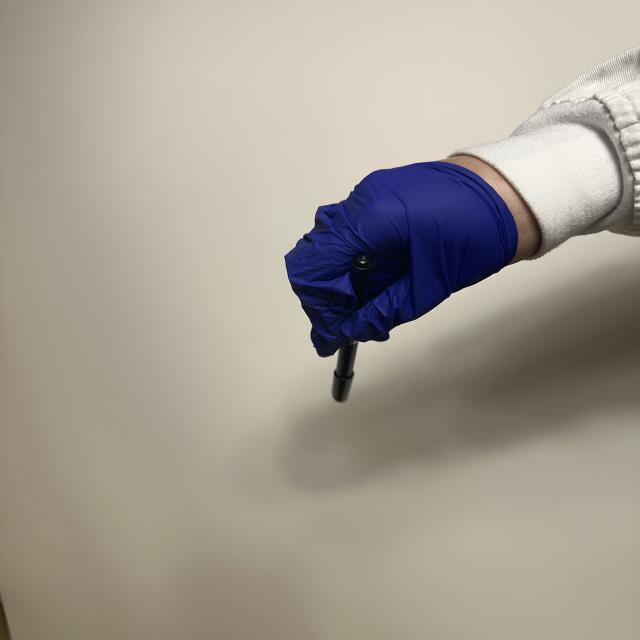glove_partial: (279, 154, 561, 359)
